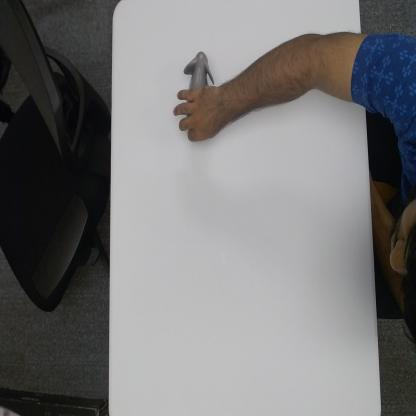Arm: (224, 30, 362, 129)
Elephant: (183, 49, 216, 92)
Hand: (172, 85, 222, 146)
